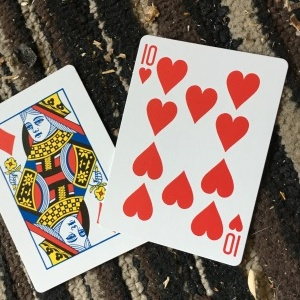card: (107, 33, 285, 267)
